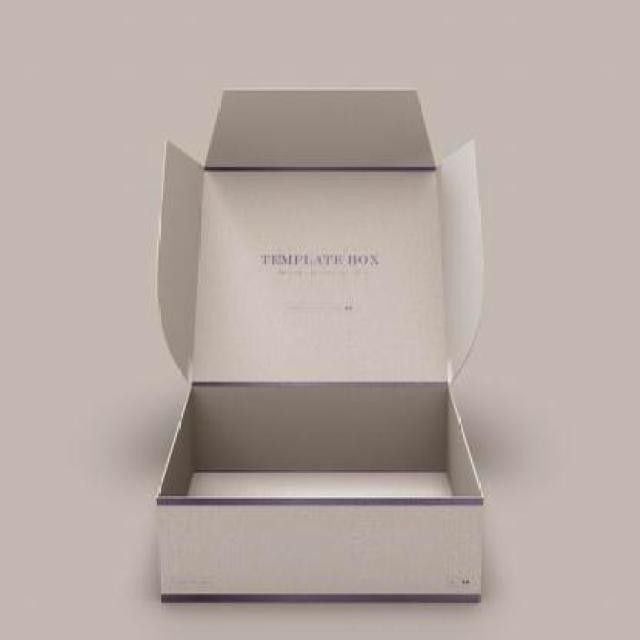box: (123, 75, 515, 633)
